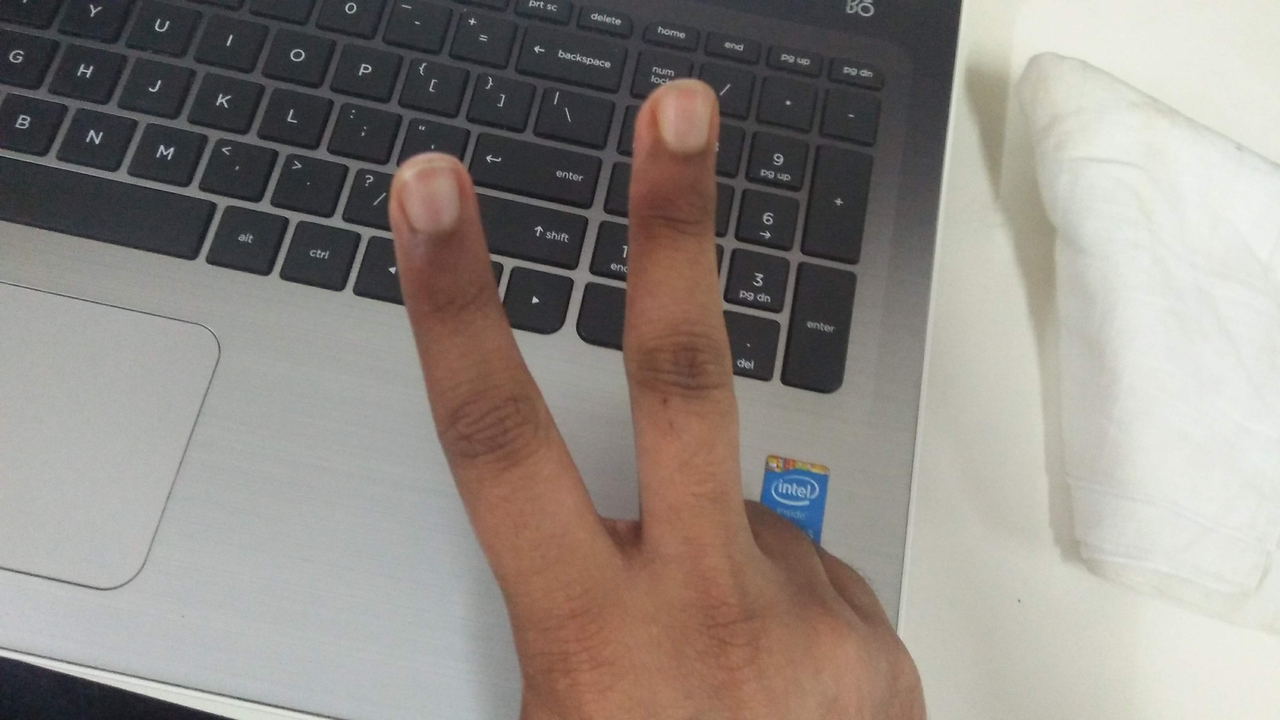fingertip: (372, 152, 485, 235), (626, 80, 726, 160)
